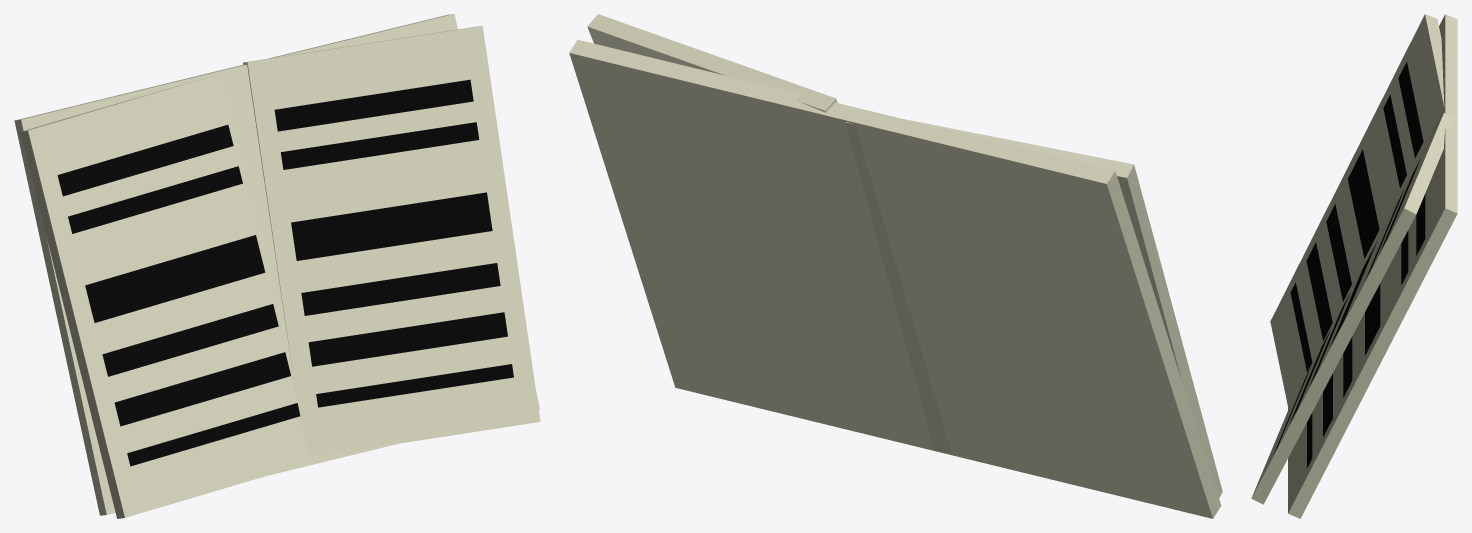
File: PianoSheets.fbx
3 renders of one model, left to right at view 1: azimuth 30°, elevation 25°; view 2: azimuth 150°, elevation 25°; view 3: azimuth 270°, elevation 25°, orthographic. The views are drawn at different scales.
Visible parts, largest first — view 1: Box004; view 2: Box004; view 3: Box004.
Part boxes in pixels (box(x1,y1,x2,y2)): Box004: box(14, 14, 540, 518); Box004: box(569, 14, 1222, 518); Box004: box(1251, 14, 1457, 518).
Bounding box in the file's own units: 41.45 × 30.27 × 18.07.
